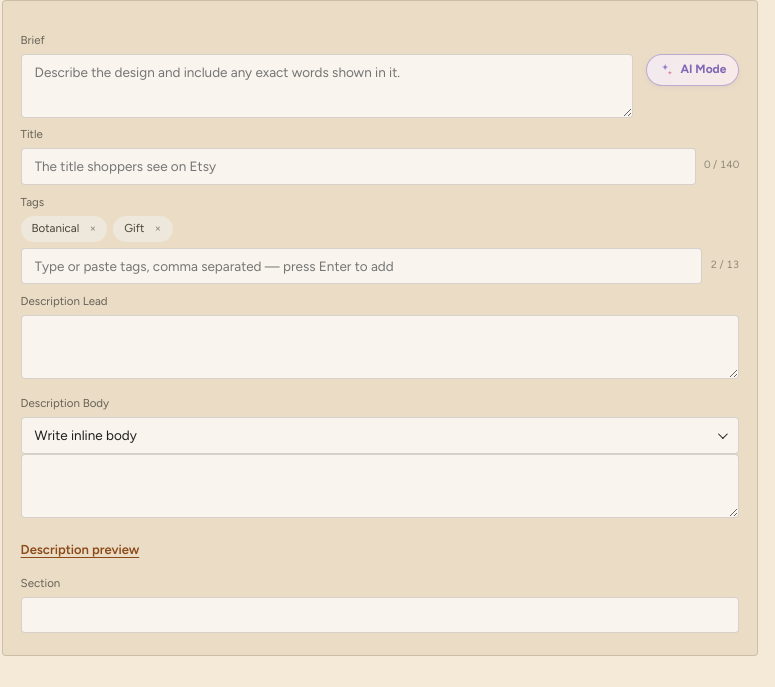
Test: DetailsTab › offers every common-copy file as a body-source option
Click the button named "Description Body": (86, 435) [21,417,739,454]
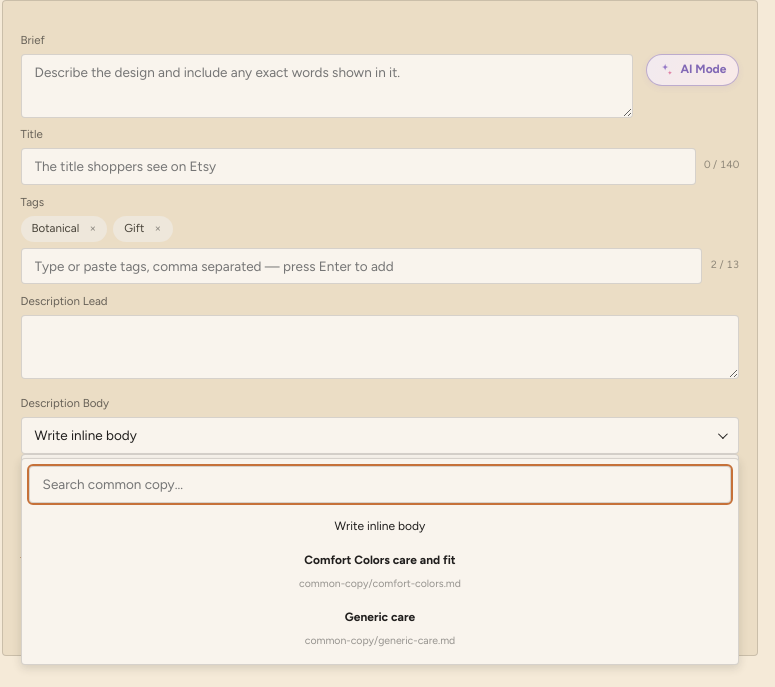
Check: the option "Comfort Colors care and fit" is shown, box [29,543,731,600]
Check: the text "common-copy/comfort-colors.md" is shown, box [299,576,461,592]
Check: the text "common-copy/generic-care.md" is shown, box [305,633,455,649]
